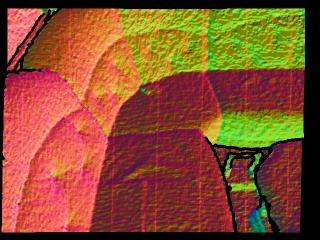station: (223, 152, 265, 190)
